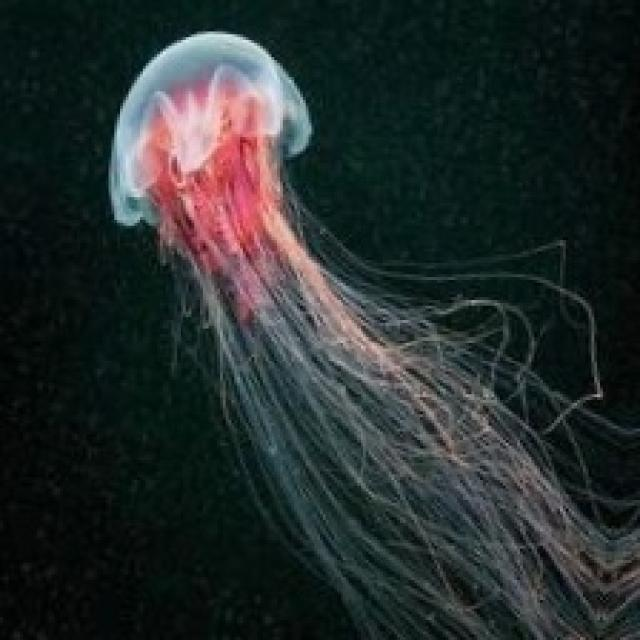Moon-jellyfish: (106, 29, 637, 637)
